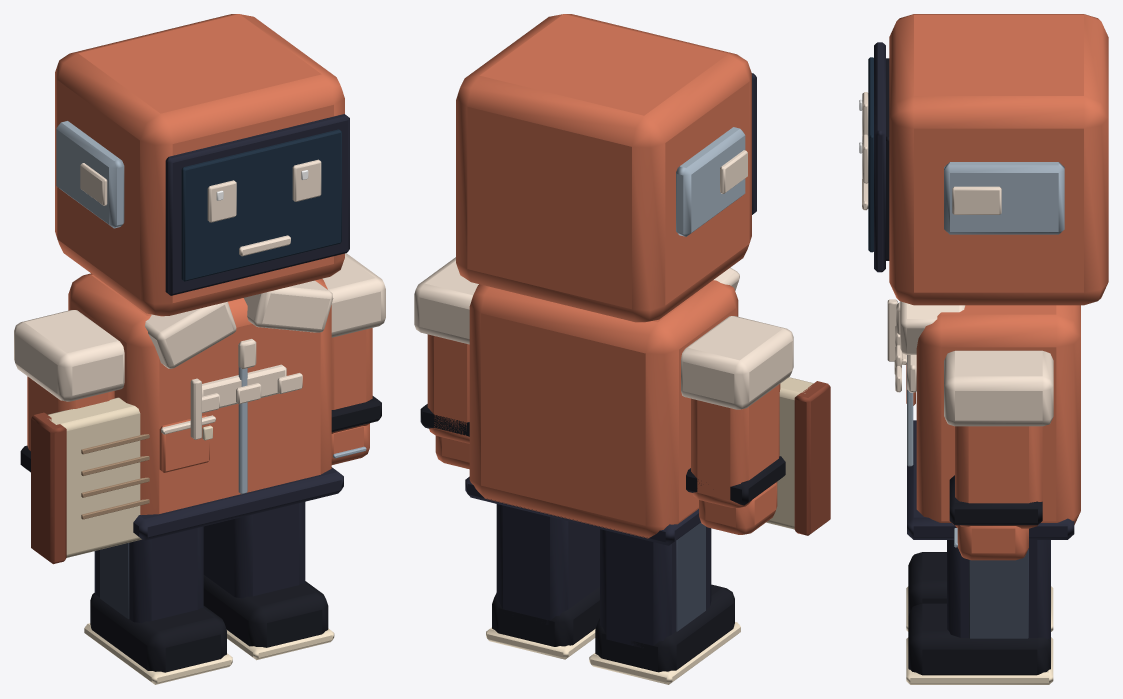
Rendered from Claude.glb.
The picture shows the model from 3 angles, left to right: view 1: azimuth 30°, elevation 25°; view 2: azimuth 150°, elevation 25°; view 3: azimuth 270°, elevation 25°; orthographic projection. The views are drawn at different scales.
Parts seen in each view (by area): view 1: Batch_Head_CITY / #d97757, Batch_Body_CITY / #d97757, Batch_Body_CITY / #f4e3d3, Batch_Head_CITY / #1e3042, Batch_Arm_L_CITY / #e8d8bd, Leg_R_trouser, Batch_Head_CITY / charcoal.013, Leg_L_trouser, Leg_L_shoe, Leg_R_shoe, Batch_Arm_L_CITY / #8c4835, Batch_Body_CITY / charcoal.013 (+12 smaller); view 2: Batch_Head_CITY / #d97757, Batch_Body_CITY / #d97757, Batch_Body_CITY / #f4e3d3, Leg_R_trouser, Leg_L_trouser, Arm_L_sleeve, Batch_Arm_L_CITY / #8c4835, Leg_L_shoe, Batch_Head_CITY / metal.013, Arm_R_sleeve, Leg_R_shoe, Batch_Leg_L_CITY / #475061.013 (+10 smaller); view 3: Batch_Head_CITY / #d97757, Batch_Body_CITY / #d97757, Batch_Body_CITY / #f4e3d3, Batch_Head_CITY / metal.013, Arm_R_sleeve, Leg_R_shoe, Batch_Leg_R_CITY / #475061.013, Leg_R_trouser, Batch_Head_CITY / charcoal.013, Batch_Body_CITY / charcoal.013, Arm_R_hand, Batch_Arm_R_CITY / rubber.013 (+7 smaller).
Part boxes in pixels (bbox=[...]): Batch_Head_CITY / #d97757: bbox=[55, 14, 344, 316]; Batch_Body_CITY / #d97757: bbox=[68, 273, 331, 514]; Batch_Body_CITY / #f4e3d3: bbox=[14, 253, 385, 439]; Batch_Head_CITY / #1e3042: bbox=[181, 129, 341, 281]; Batch_Arm_L_CITY / #e8d8bd: bbox=[48, 397, 141, 557]; Leg_R_trouser: bbox=[203, 502, 305, 598]; Batch_Head_CITY / charcoal.013: bbox=[165, 114, 349, 295]; Leg_L_trouser: bbox=[94, 526, 203, 623]; Leg_L_shoe: bbox=[90, 592, 226, 672]; Leg_R_shoe: bbox=[203, 575, 328, 647]; Batch_Arm_L_CITY / #8c4835: bbox=[31, 412, 66, 564]; Batch_Body_CITY / charcoal.013: bbox=[133, 467, 343, 540]; Batch_Head_CITY / #d97757: bbox=[456, 14, 751, 322]; Batch_Body_CITY / #d97757: bbox=[469, 280, 738, 538]; Batch_Body_CITY / #f4e3d3: bbox=[414, 257, 793, 409]; Leg_R_trouser: bbox=[496, 504, 599, 624]; Leg_L_trouser: bbox=[600, 526, 711, 648]; Arm_L_sleeve: bbox=[691, 384, 780, 508]; Batch_Arm_L_CITY / #8c4835: bbox=[794, 381, 830, 535]; Leg_L_shoe: bbox=[595, 584, 734, 672]; Batch_Head_CITY / metal.013: bbox=[676, 127, 745, 236]; Arm_R_sleeve: bbox=[427, 334, 469, 443]; Leg_R_shoe: bbox=[492, 586, 599, 646]; Batch_Leg_L_CITY / #475061.013: bbox=[676, 522, 705, 631]; Batch_Head_CITY / #d97757: bbox=[889, 14, 1108, 305]; Batch_Body_CITY / #d97757: bbox=[906, 305, 1080, 524]; Batch_Body_CITY / #f4e3d3: bbox=[887, 299, 1053, 426]; Batch_Head_CITY / metal.013: bbox=[944, 162, 1064, 234]; Arm_R_sleeve: bbox=[955, 426, 1042, 528]; Leg_R_shoe: bbox=[908, 603, 1050, 675]; Batch_Leg_R_CITY / #475061.013: bbox=[969, 549, 1028, 638]; Leg_R_trouser: bbox=[947, 540, 1050, 640]; Batch_Head_CITY / charcoal.013: bbox=[874, 42, 885, 272]; Batch_Body_CITY / charcoal.013: bbox=[907, 420, 1074, 539]; Arm_R_hand: bbox=[957, 525, 1028, 560]; Batch_Arm_R_CITY / rubber.013: bbox=[949, 475, 1042, 525].
Size of the model in its own units: 0.7585 by 1.18 by 0.4545.
